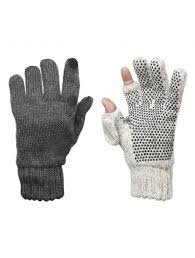defected: (106, 55, 195, 205)
